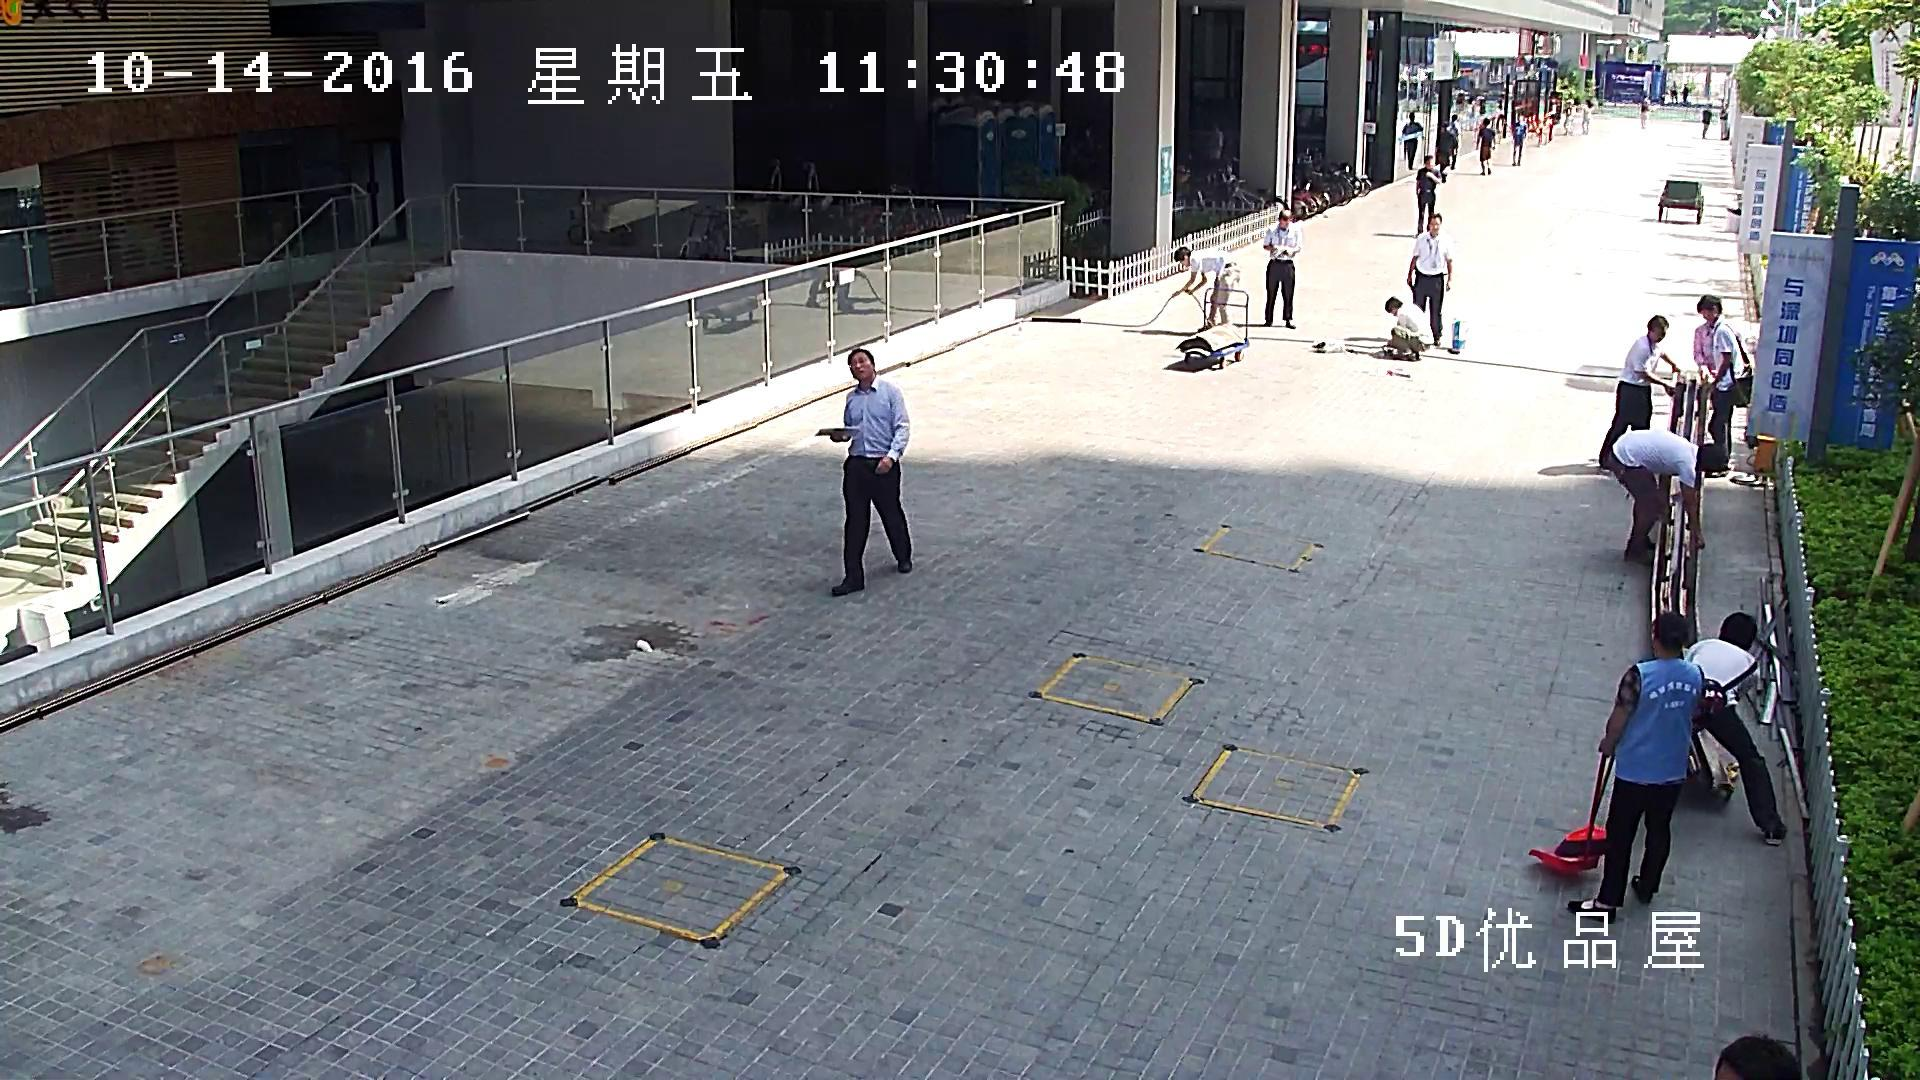person: (1527, 611, 1707, 924), (1568, 611, 1706, 923), (1683, 611, 1789, 846), (815, 349, 912, 596), (1607, 428, 1725, 576), (1607, 428, 1725, 567), (1596, 313, 1685, 473), (1598, 313, 1680, 472), (1690, 295, 1752, 476), (1696, 295, 1752, 476), (1169, 245, 1240, 333), (1406, 212, 1452, 345), (1174, 246, 1240, 333), (1263, 209, 1300, 329), (1380, 296, 1434, 361), (1385, 296, 1434, 361), (1413, 154, 1441, 237), (1692, 320, 1713, 386), (1401, 111, 1423, 169), (1436, 120, 1454, 183), (1475, 118, 1495, 175), (1511, 112, 1526, 166), (1447, 114, 1458, 169), (1579, 100, 1593, 134), (1701, 104, 1711, 138), (1561, 102, 1571, 135), (1640, 95, 1650, 128), (1719, 103, 1728, 139), (1669, 80, 1677, 102), (1681, 83, 1689, 104)
